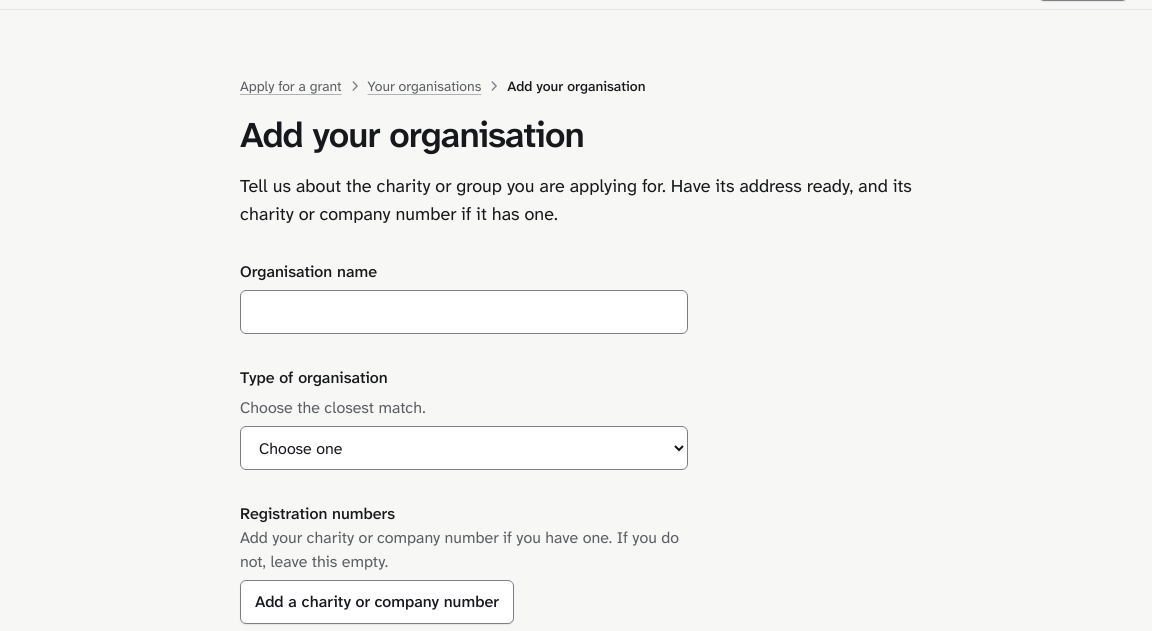
adding an organisation › offers each type once, and no more numbers when every type is used
The width and height of the screenshot is (1152, 631).
Click the button "Add a charity or company number" at [377, 602], box [240,580,514,624]
(page scrolled)
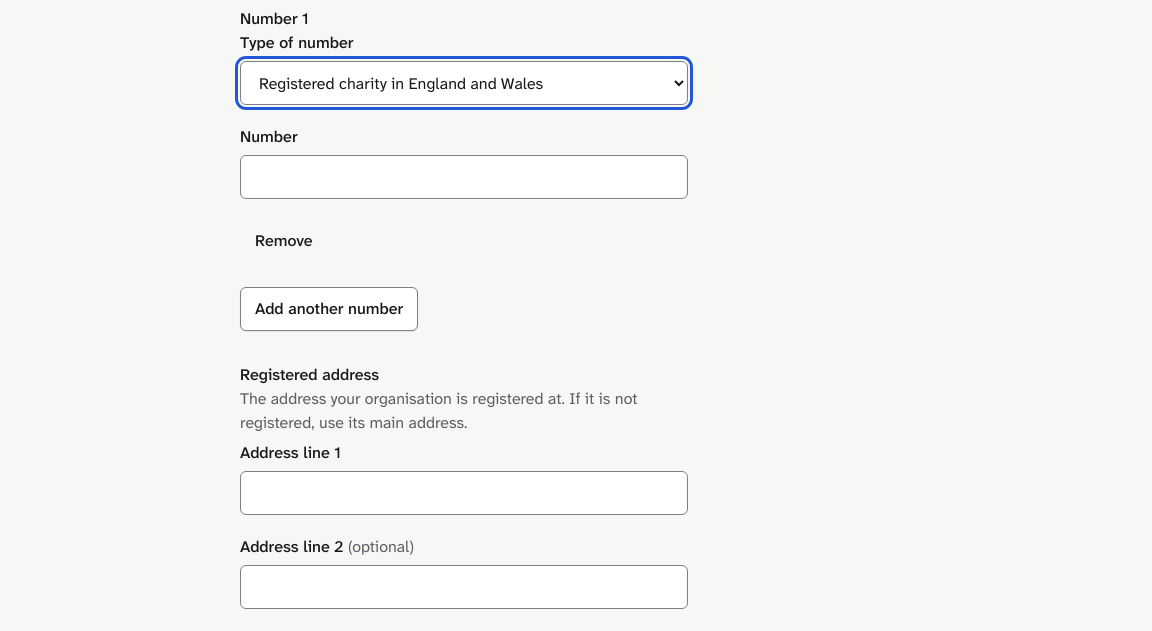
Click the button "Add another number" at [329, 309], box [240,287,418,331]
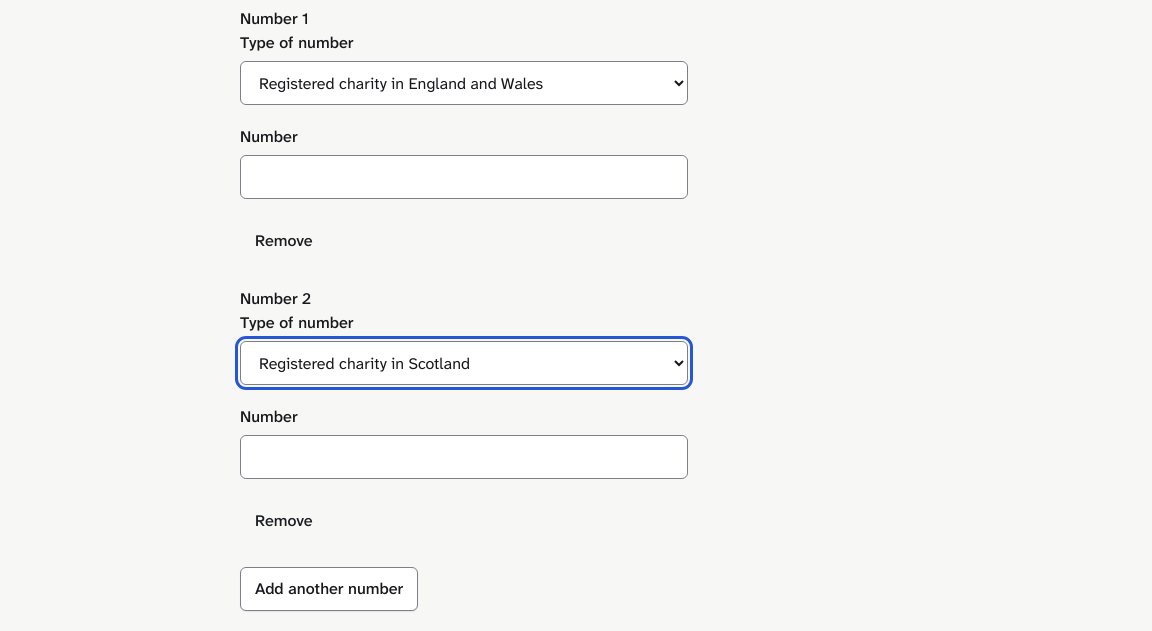
Click the button "Add another number" at [329, 589], box [240,567,418,611]
(page scrolled)
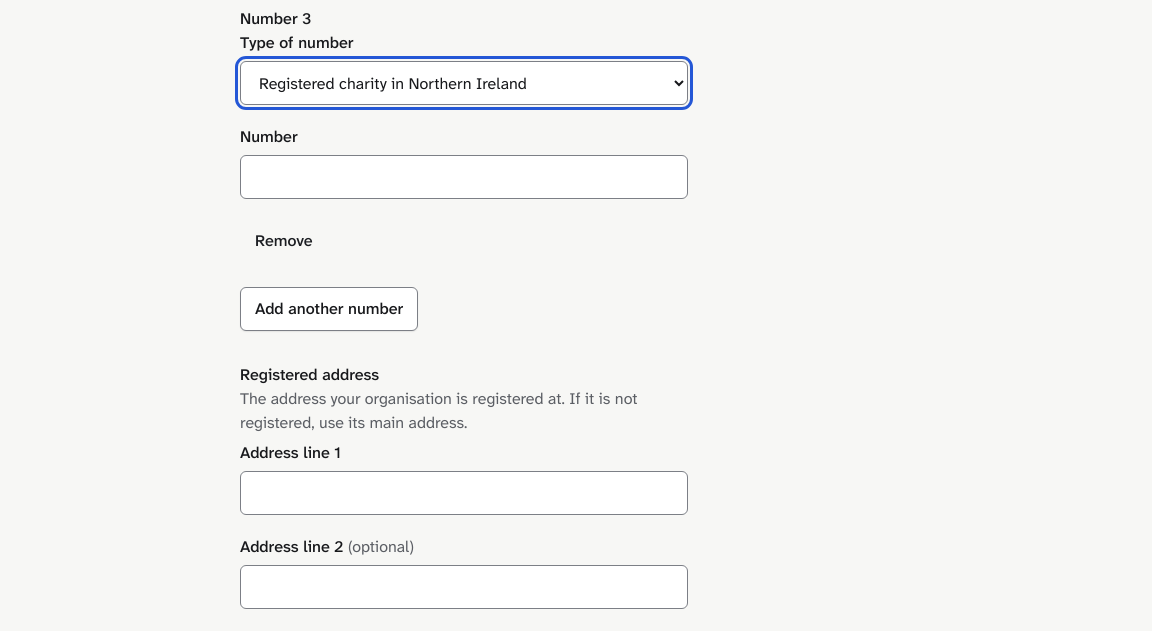
Click the button "Add another number" at [329, 309], box [240,287,418,331]
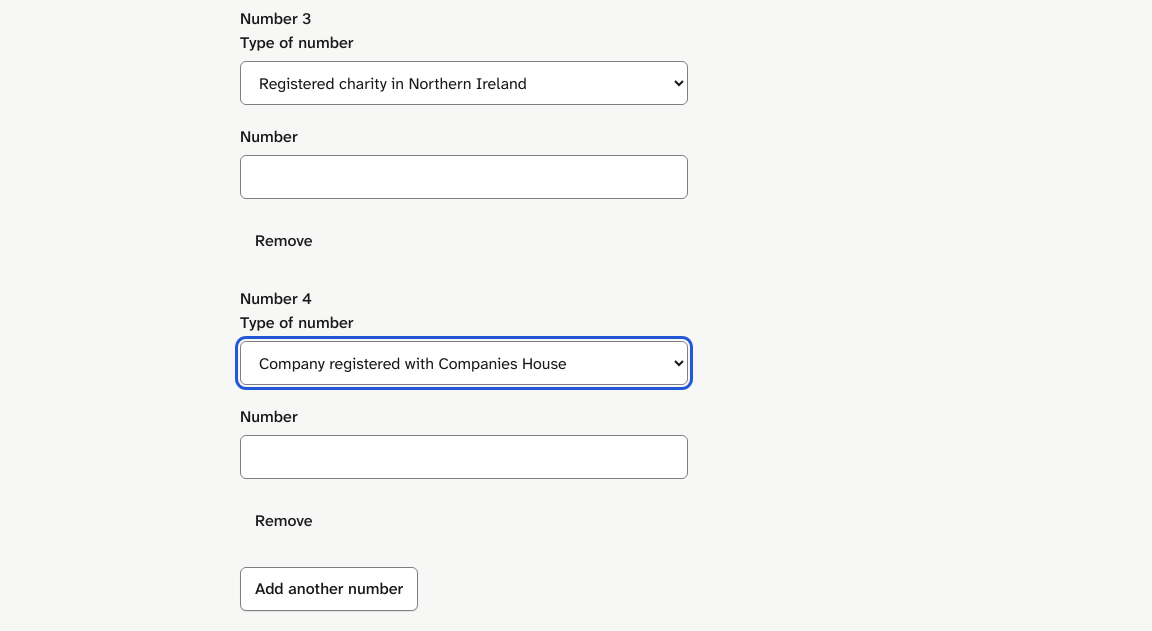
Click the button "Add another number" at [329, 589], box [240,567,418,611]
(page scrolled)
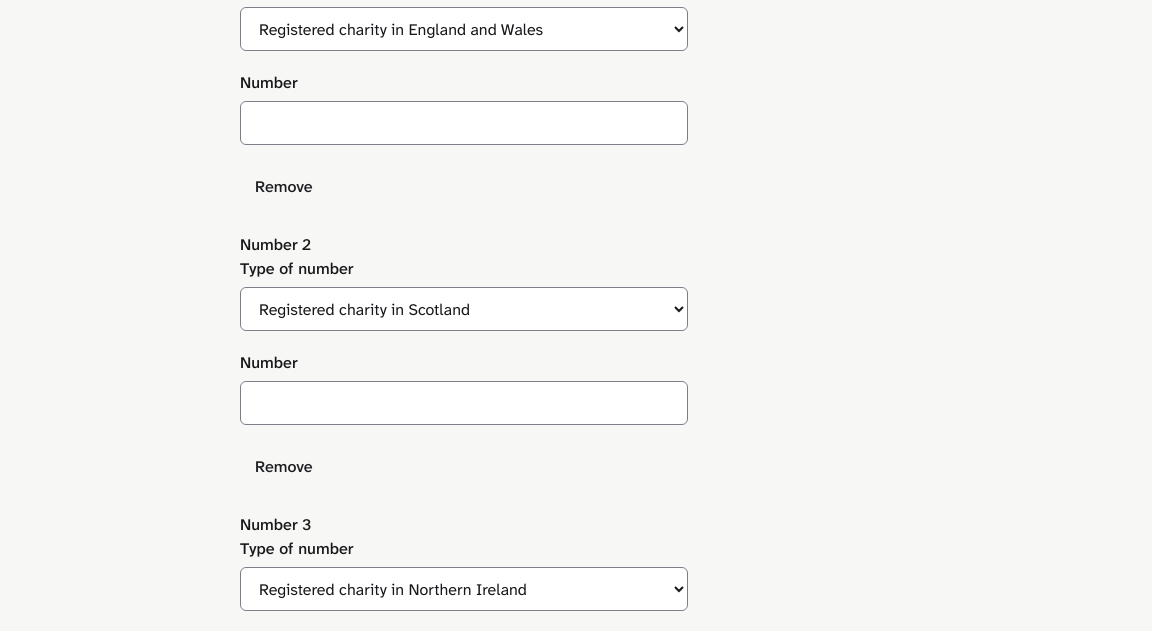
Expected: the dropdown labelled "Type of number" below "Number 2" shows "Registered charity in Scotland", [240,287,688,331]
Expected: the button "Add another number" is gone
